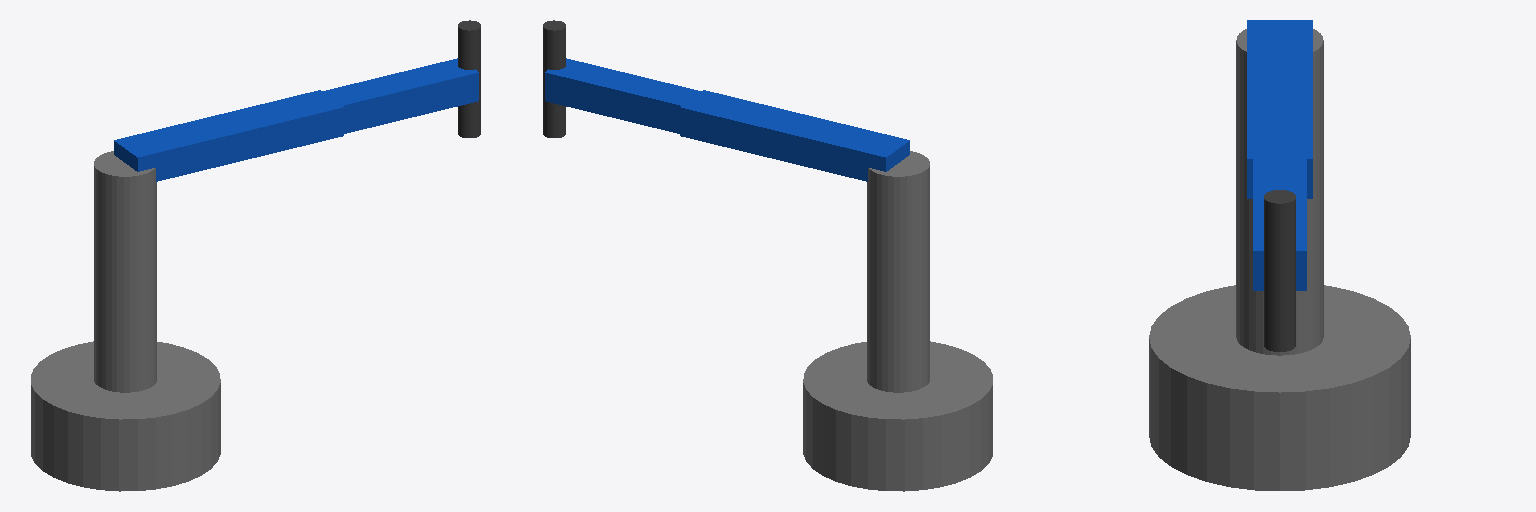
robot.urdf — robot_scara:
<?xml version="1.0"?>
<robot name="robot_scara">

  <!-- ============================================================
       ESLABONES (links)
       ============================================================ -->

  <!-- Base 1: cilindro ancho (disco de la base) -->
  <link name="base_1">
    <visual>
      <origin xyz="0 0 0.05" rpy="0 0 0"/>
      <geometry>
        <cylinder radius="0.12" length="0.10"/>
      </geometry>
      <material name="gris">
        <color rgba="0.5 0.5 0.5 1"/>
      </material>
    </visual>
    <collision>
      <origin xyz="0 0 0.05" rpy="0 0 0"/>
      <geometry>
        <cylinder radius="0.12" length="0.10"/>
      </geometry>
    </collision>
    <inertial>
      <mass value="2.0"/>
      <inertia ixx="0.01" ixy="0" ixz="0"
               iyy="0.01" iyz="0" izz="0.018"/>
    </inertial>
  </link>

  <!-- Base 2: cilindro delgado y largo (columna) -->
  <link name="base_2">
    <visual>
      <origin xyz="0 0 0.15" rpy="0 0 0"/>
      <geometry>
        <cylinder radius="0.04" length="0.30"/>
      </geometry>
      <material name="gris">
        <color rgba="0.5 0.5 0.5 1"/>
      </material>
    </visual>
    <collision>
      <origin xyz="0 0 0.15" rpy="0 0 0"/>
      <geometry>
        <cylinder radius="0.04" length="0.30"/>
      </geometry>
    </collision>
    <inertial>
      <mass value="1.0"/>
      <inertia ixx="0.008" ixy="0" ixz="0"
               iyy="0.008" iyz="0" izz="0.001"/>
    </inertial>
  </link>

  <!-- Link 1: brazo largo rectangular horizontal -->
  <link name="link_1">
    <visual>
      <origin xyz="0.15 0 0" rpy="0 0 0"/>
      <geometry>
        <box size="0.30 0.06 0.04"/>
      </geometry>
      <material name="azul">
        <color rgba="0.1 0.4 0.8 1"/>
      </material>
    </visual>
    <collision>
      <origin xyz="0.15 0 0" rpy="0 0 0"/>
      <geometry>
        <box size="0.30 0.06 0.04"/>
      </geometry>
    </collision>
    <inertial>
      <mass value="0.8"/>
      <inertia ixx="0.001" ixy="0" ixz="0"
               iyy="0.006" iyz="0" izz="0.006"/>
    </inertial>
  </link>

  <!-- Link 2: brazo corto rectangular horizontal -->
  <link name="link_2">
    <visual>
      <origin xyz="0.10 0 0" rpy="0 0 0"/>
      <geometry>
        <box size="0.20 0.05 0.04"/>
      </geometry>
      <material name="azul">
        <color rgba="0.1 0.4 0.8 1"/>
      </material>
    </visual>
    <collision>
      <origin xyz="0.10 0 0" rpy="0 0 0"/>
      <geometry>
        <box size="0.20 0.05 0.04"/>
      </geometry>
    </collision>
    <inertial>
      <mass value="0.5"/>
      <inertia ixx="0.001" ixy="0" ixz="0"
               iyy="0.003" iyz="0" izz="0.003"/>
    </inertial>
  </link>

  <!-- Efector final: vástago que sube y baja -->
  <link name="end_effector">
    <visual>
      <origin xyz="0 0 -0.075" rpy="0 0 0"/>
      <geometry>
        <cylinder radius="0.015" length="0.15"/>
      </geometry>
      <material name="gris_oscuro">
        <color rgba="0.3 0.3 0.3 1"/>
      </material>
    </visual>
    <collision>
      <origin xyz="0 0 -0.075" rpy="0 0 0"/>
      <geometry>
        <cylinder radius="0.015" length="0.15"/>
      </geometry>
    </collision>
    <inertial>
      <mass value="0.1"/>
      <inertia ixx="0.00005" ixy="0" ixz="0"
               iyy="0.00005" iyz="0" izz="0.00001"/>
    </inertial>
  </link>

  <!-- ============================================================
       JUNTAS (joints)
       ============================================================ -->

  <!-- Junta fija: une base_1 (disco) con base_2 (columna) -->
  <joint name="joint_base" type="fixed">
    <parent link="base_1"/>
    <child link="base_2"/>
    <origin xyz="0 0 0.10" rpy="0 0 0"/>
  </joint>

  <!-- Junta V: rotación en Z — une base_2 con link_1 -->
  <joint name="joint_V" type="revolute">
    <parent link="base_2"/>
    <child link="link_1"/>
    <origin xyz="0 0 0.30" rpy="0 0 0"/>
    <axis xyz="0 0 1"/>
    <limit lower="-3.14159" upper="3.14159" effort="50" velocity="1.5"/>
  </joint>

  <!-- Junta R: rotación en Z — une link_1 con link_2 -->
  <joint name="joint_R" type="revolute">
    <parent link="link_1"/>
    <child link="link_2"/>
    <origin xyz="0.30 0 0" rpy="0 0 0"/>
    <axis xyz="0 0 1"/>
    <limit lower="-3.14159" upper="3.14159" effort="30" velocity="1.5"/>
  </joint>

  <!-- Junta O: prismática en Z — sube y baja el efector final -->
  <joint name="joint_O" type="prismatic">
    <parent link="link_2"/>
    <child link="end_effector"/>
    <origin xyz="0.20 0 0.075" rpy="0 0 0"/>
    <axis xyz="0 0 1"/>
    <limit lower="-0.09" upper="0.06" effort="20" velocity="0.5"/>
  </joint>

</robot>

--- Facts derived from the render (not from the file) ---
Views: 3 orthographic renders of the robot side by side, from view 1: azimuth 30°, elevation 25°; view 2: azimuth 150°, elevation 25°; view 3: azimuth 270°, elevation 25°.
Model robot_scara with 5 links and 4 joints (2 revolute, 1 prismatic, 1 fixed), rooted at base_1, posed every joint at zero.
Links seen in each view (by area): view 1: base_1, base_2, link_1, link_2, end_effector; view 2: base_1, base_2, link_1, link_2, end_effector; view 3: base_1, base_2, link_1, end_effector, link_2.
Link boxes in pixels (box(x1,y1,x2,y2)): base_1: box(31, 341, 220, 491); base_2: box(94, 151, 156, 392); link_1: box(114, 90, 343, 181); link_2: box(322, 58, 478, 133); end_effector: box(458, 20, 480, 137); base_1: box(803, 341, 992, 491); base_2: box(867, 151, 929, 392); link_1: box(680, 90, 909, 181); link_2: box(545, 58, 701, 133); end_effector: box(543, 20, 565, 137); base_1: box(1149, 285, 1410, 490); base_2: box(1236, 29, 1323, 355); link_1: box(1247, 20, 1312, 198); end_effector: box(1264, 190, 1295, 351); link_2: box(1253, 159, 1306, 290).
Size in the robot's own frame: 0.635 by 0.24 by 0.475 metres.
Geometry: primitives only (box / cylinder / sphere), no mesh files.
